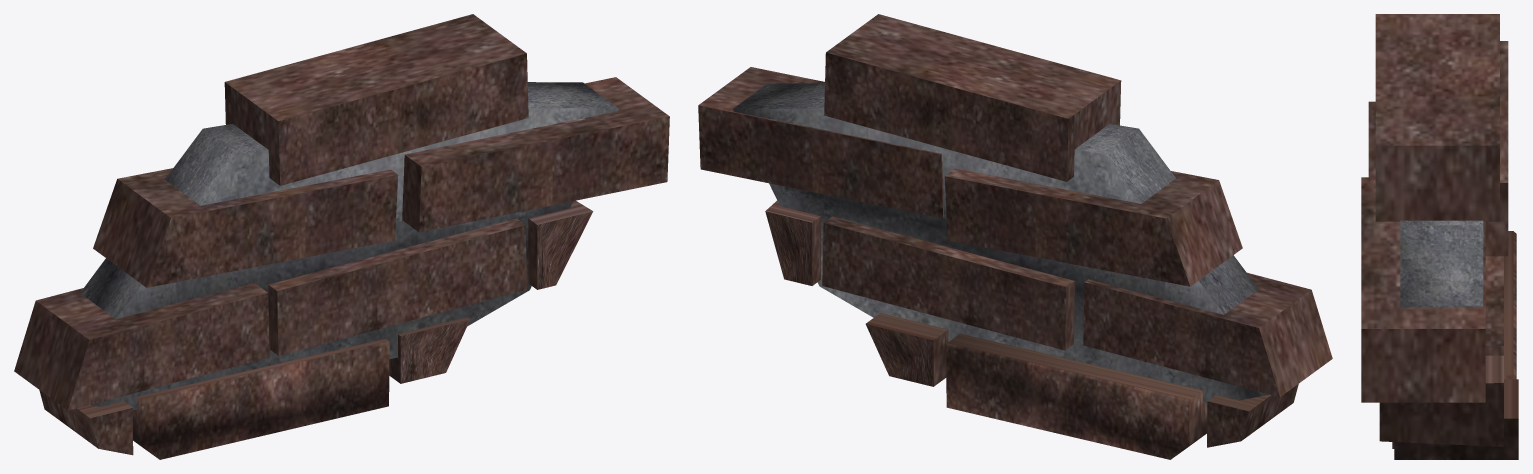
Rendered from prop_redbrick_wall_debris_01.glb.
3 views of the same model, side by side, from view 1: azimuth 30°, elevation 25°; view 2: azimuth 150°, elevation 25°; view 3: azimuth 270°, elevation 25° (orthographic). The views are drawn at different scales.
Bounding box in the file's own units: 28.91 × 15.05 × 5.68.
Materials: 2 (2 with a texture image).
